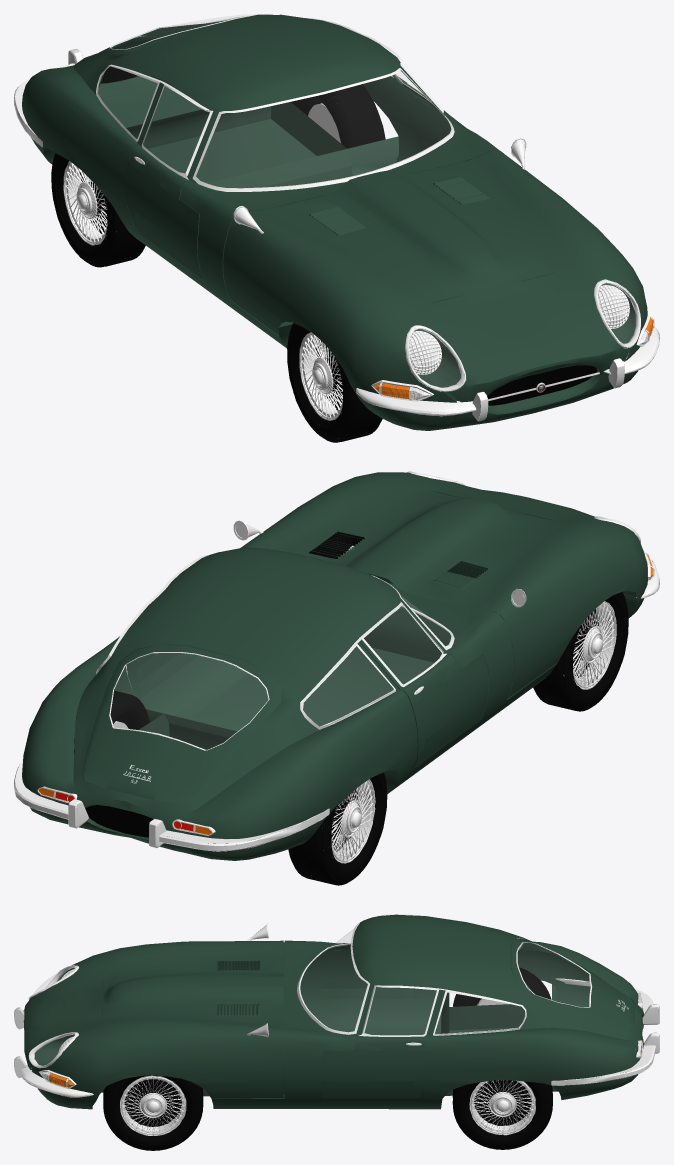
Rendered from jaguar-e-type-lod0.glb.
3 renders of one model, top to bottom at view 1: azimuth 30°, elevation 25°; view 2: azimuth 150°, elevation 25°; view 3: azimuth 270°, elevation 25°, orthographic. The views are drawn at different scales.
Parts seen in each view (by area): view 1: Traffic_body, Traffic_FL, Traffic_RL, Traffic_RR; view 2: Traffic_body, Traffic_FL, Traffic_RL, Traffic_RR, Traffic_FR; view 3: Traffic_body, Traffic_FR, Traffic_RR, Traffic_RL.
Boxes of the visible parts, box(x1,y1,x2,y2) form: Traffic_body: box(14, 14, 659, 440); Traffic_FL: box(287, 323, 382, 442); Traffic_RL: box(51, 153, 145, 267); Traffic_RR: box(291, 84, 385, 148); Traffic_body: box(14, 471, 659, 883); Traffic_FL: box(533, 592, 628, 711); Traffic_RL: box(288, 772, 387, 885); Traffic_RR: box(74, 690, 149, 752); Traffic_FR: box(309, 531, 364, 558); Traffic_body: box(14, 914, 659, 1149); Traffic_FR: box(103, 1075, 203, 1150); Traffic_RR: box(452, 1080, 552, 1149); Traffic_RL: box(453, 967, 551, 1006).
Bounding box in the file's own units: 1.71 × 1.25 × 4.45.
Materials: 7 (1 with a texture image).
